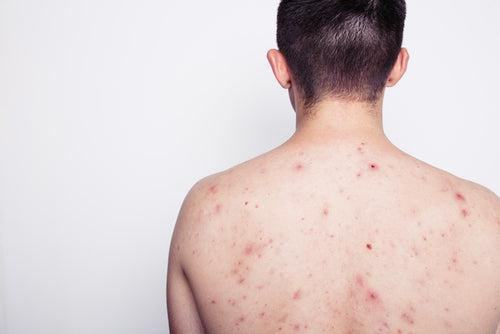Acne: (177, 123, 485, 334)
